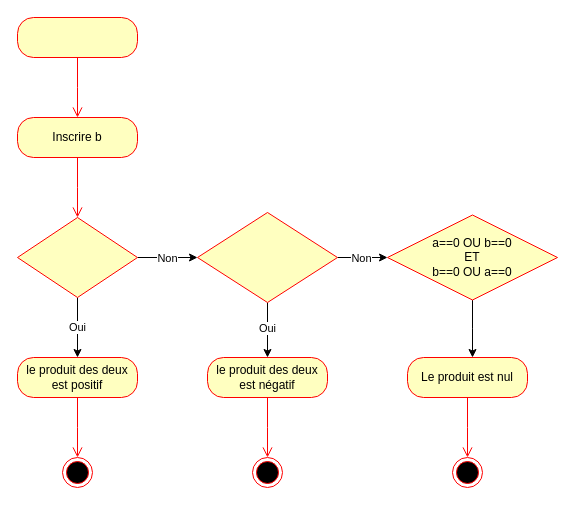
This 575x505 diagram has some shape labels left out. Each missing label, with the centre of its shape:
"a<0 ET b>0 OU a>0 ET b<0" goes at (267,257).
"a>0 ET b>0" goes at (77,257).
"Inscrire a" goes at (77,37).
